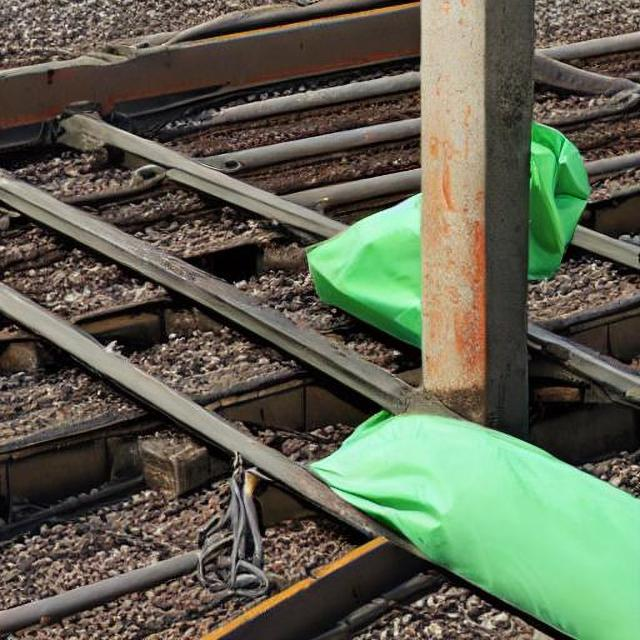plastic bag: (225, 401, 622, 631), (298, 176, 431, 354), (524, 118, 592, 276)
